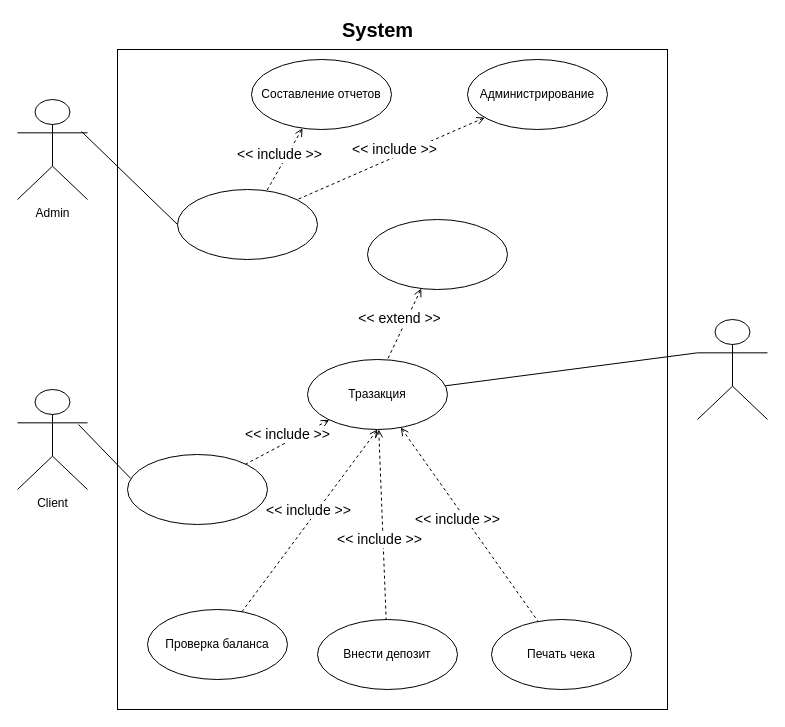
Some shapes in this 785 by 727 pixel diagram are drawn without their labels. The centre of each missing label's shape, as x and y in pixels:
"Bank" belongs at pixel 732 369.
"Логин" belongs at pixel 197 489.
"Неверный пароль" belongs at pixel 437 254.
"Управление системой" belongs at pixel 247 224.
